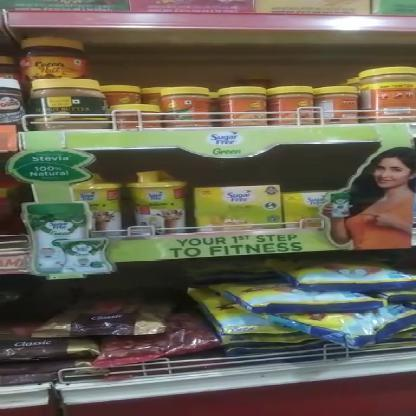SUGAR FREE NATURA SACHET 50: (193, 186, 282, 228), (284, 194, 326, 223)
